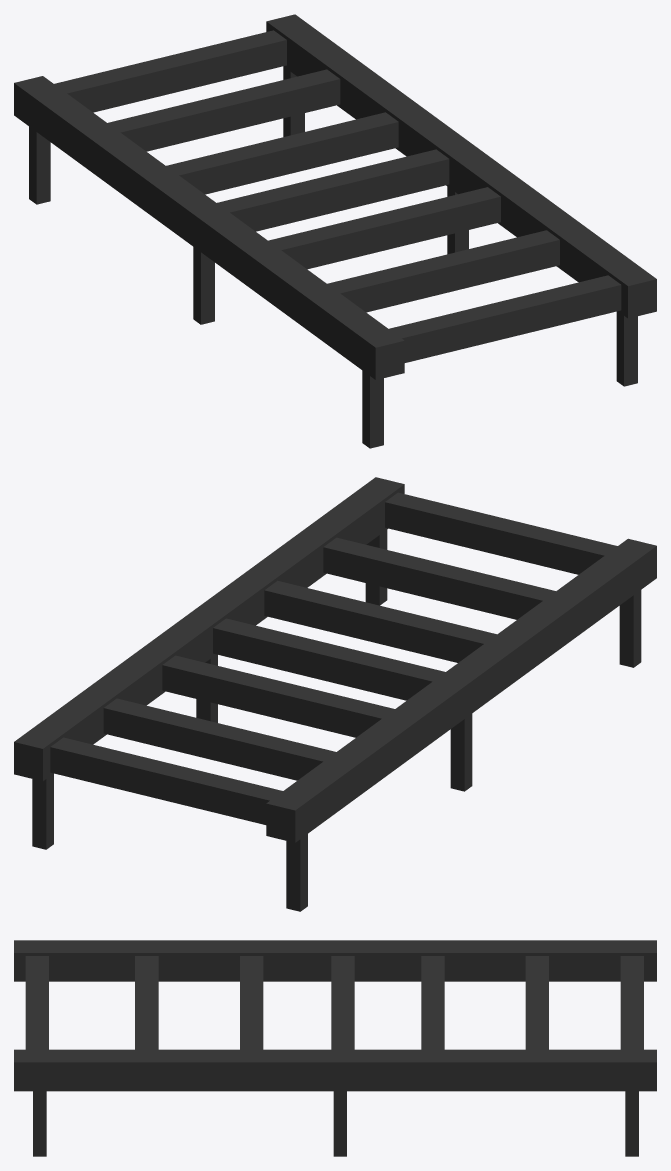
Rendered from Rack.FBX.
3 views of the same model, one above another, from view 1: azimuth 30°, elevation 25°; view 2: azimuth 150°, elevation 25°; view 3: azimuth 270°, elevation 25° (orthographic). The views are drawn at different scales.
Parts seen in each view (by area): view 1: Box002; view 2: Box002; view 3: Box002.
Part boxes in pixels (x1,y1,x2,y2): Box002: (14, 14, 656, 448); Box002: (14, 477, 656, 911); Box002: (14, 940, 656, 1156).
Size of the model in its own units: 9.56 by 3.57 by 21.3.
